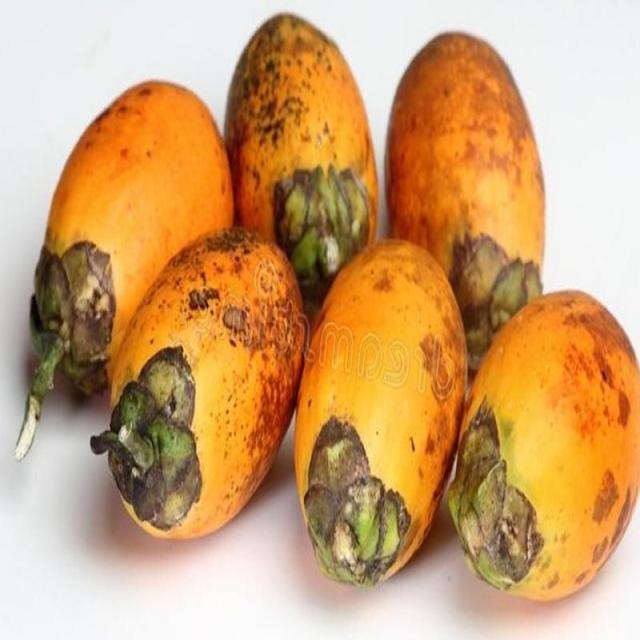good: (90, 229, 310, 544), (32, 80, 237, 402), (293, 240, 470, 590), (444, 291, 639, 604), (382, 31, 547, 371), (222, 12, 378, 319)
